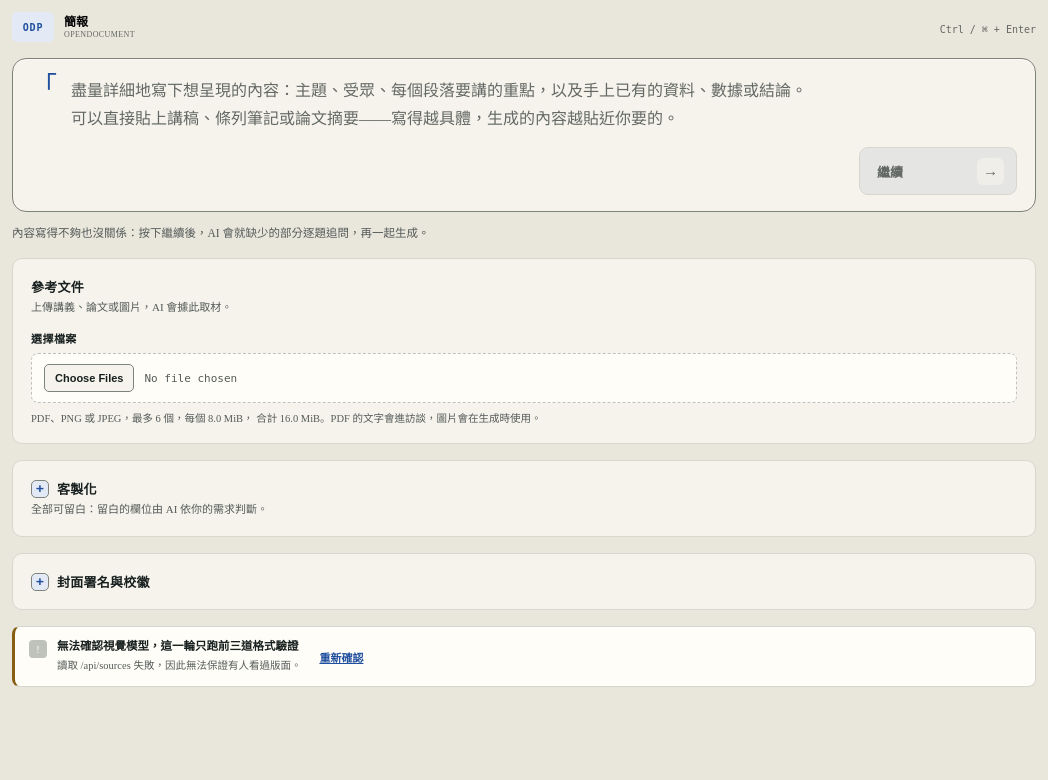
Test case: 探測失敗可以重試,而且真的會再問一次
Click the button with test id "retry-sources". click: (341, 657)
box: [311,643,371,671]
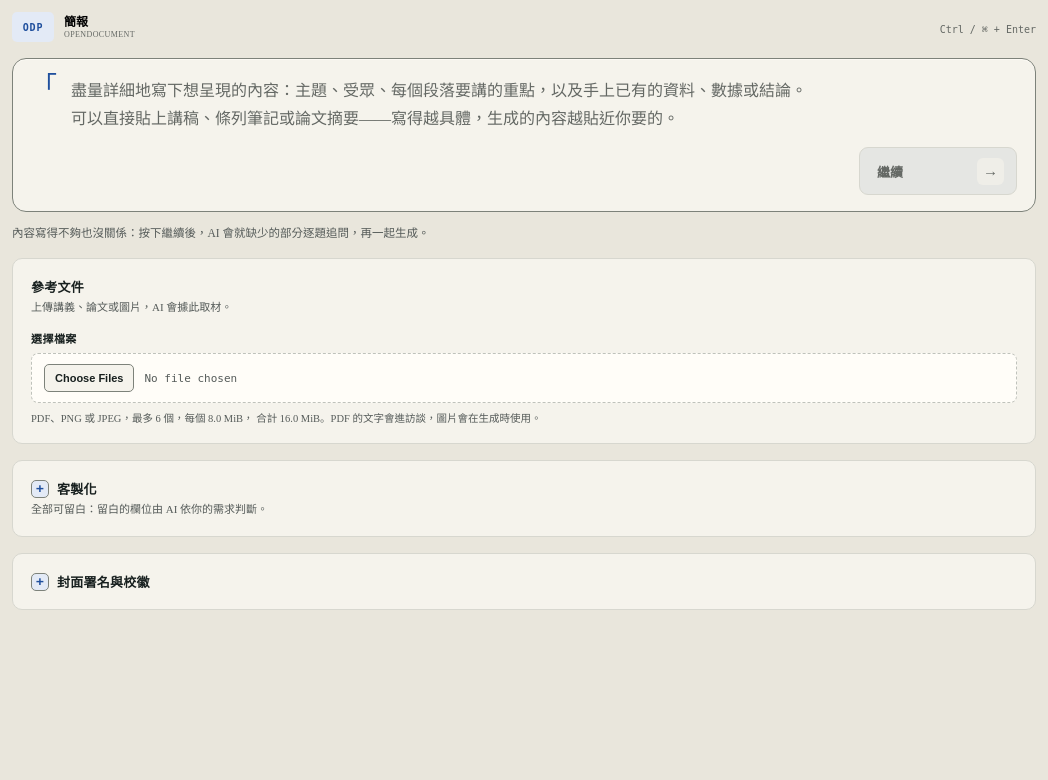
Expected: the message with test id "qa-status" is gone
